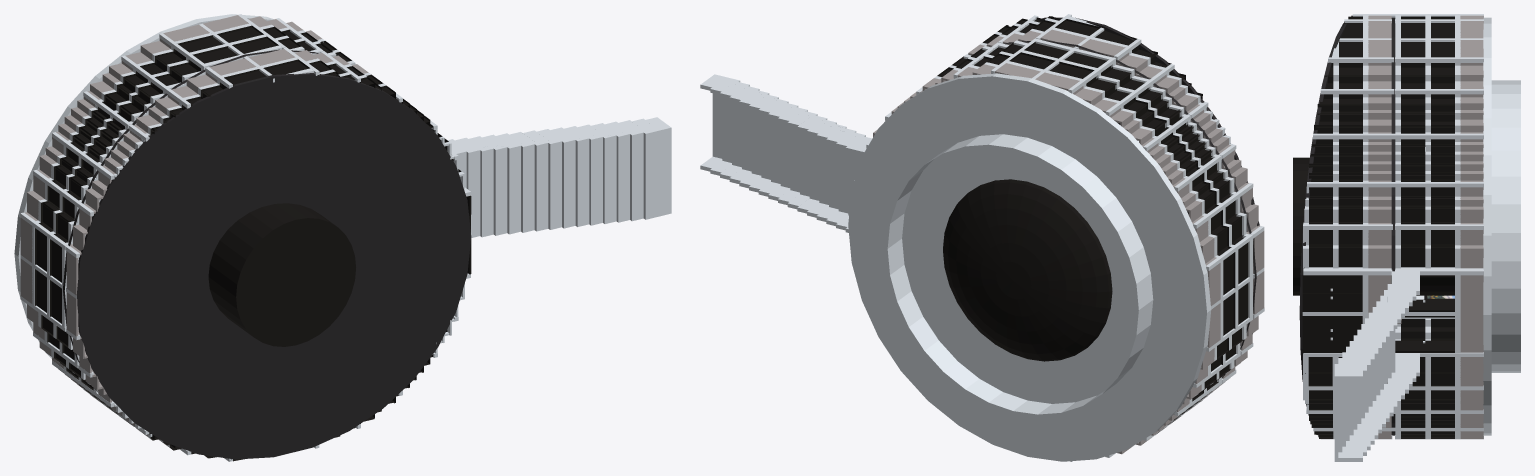
Rendered from Galeria.fbx.
The picture shows the model from 3 angles, left to right: view 1: azimuth 30°, elevation 25°; view 2: azimuth 150°, elevation 25°; view 3: azimuth 270°, elevation 25°; orthographic projection.
Parts seen in each view (by area): view 1: Cube.155; view 2: Cube.155; view 3: Cube.155.
Boxes of the visible parts, box(x1,y1,x2,y2) form: Cube.155: box(14, 14, 671, 461); Cube.155: box(700, 14, 1264, 461); Cube.155: box(1293, 14, 1520, 461).
Bounding box in the file's own units: 15892 × 10000 × 5446.
